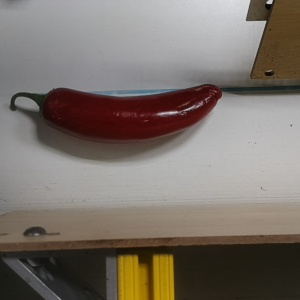Cut Point: (29, 86, 68, 124)
